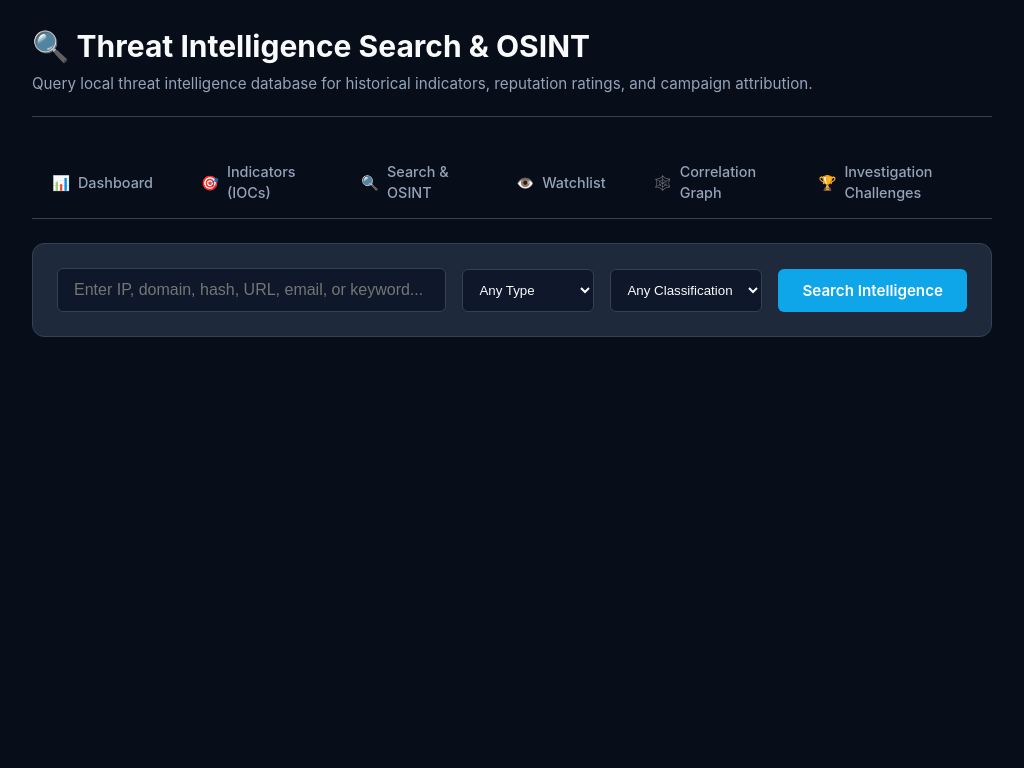
it: Step 13: Threat Intelligence & IOC Investigation UI Tests › performs intelligence search and displays query results
The width and height of the screenshot is (1024, 768).
Expected: the heading "🔍 Threat Intelligence Search & OSINT" is shown, x1=32 y1=28 x2=590 y2=64
Step 1. Type "198.51.100.25" into the field with placeholder "Enter IP, domain, hash, URL, email, or keyword..." → (252, 290), box x1=57 y1=268 x2=446 y2=312
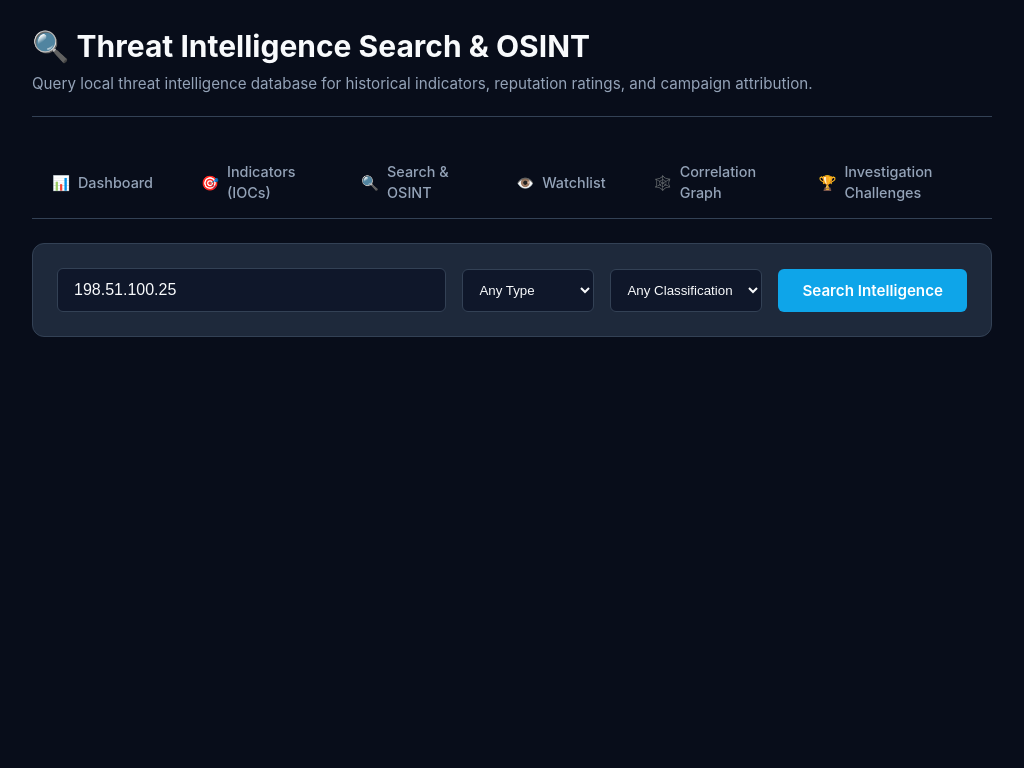
Step 2. Click the button "Search Intelligence" → (873, 290), box x1=778 y1=268 x2=967 y2=312
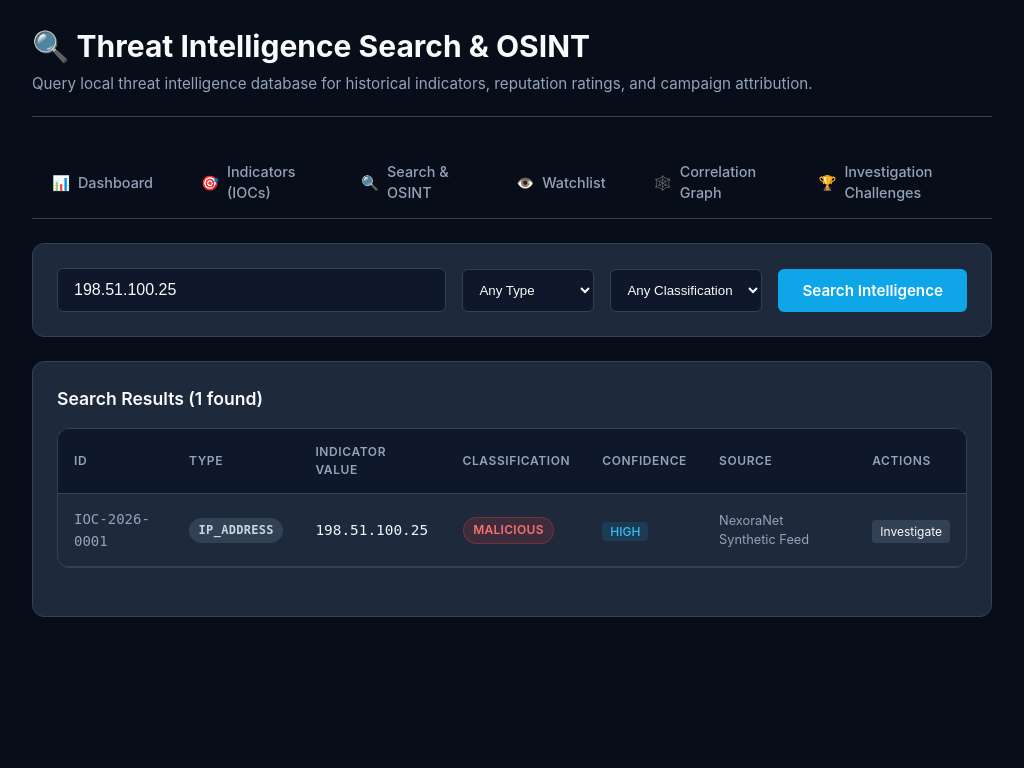
Result: the heading "Search Results (1 found)" is shown at x1=57 y1=388 x2=263 y2=409
